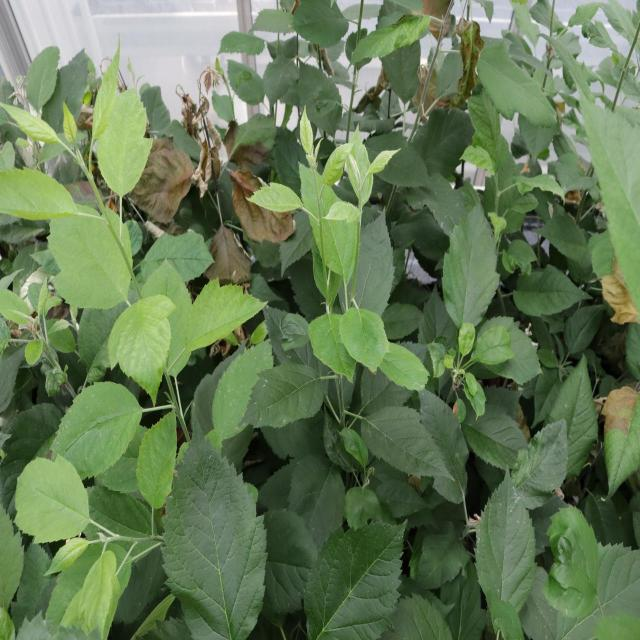-FireBlight-: (175, 88, 227, 200)
